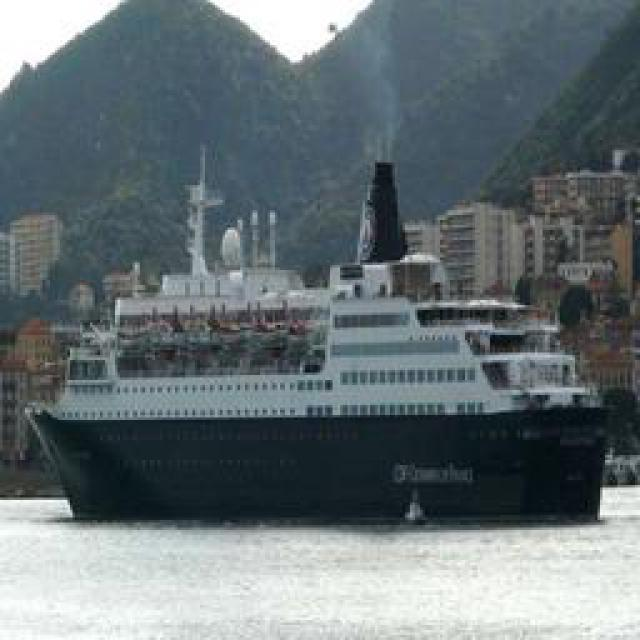Ship: (23, 227, 611, 517)
